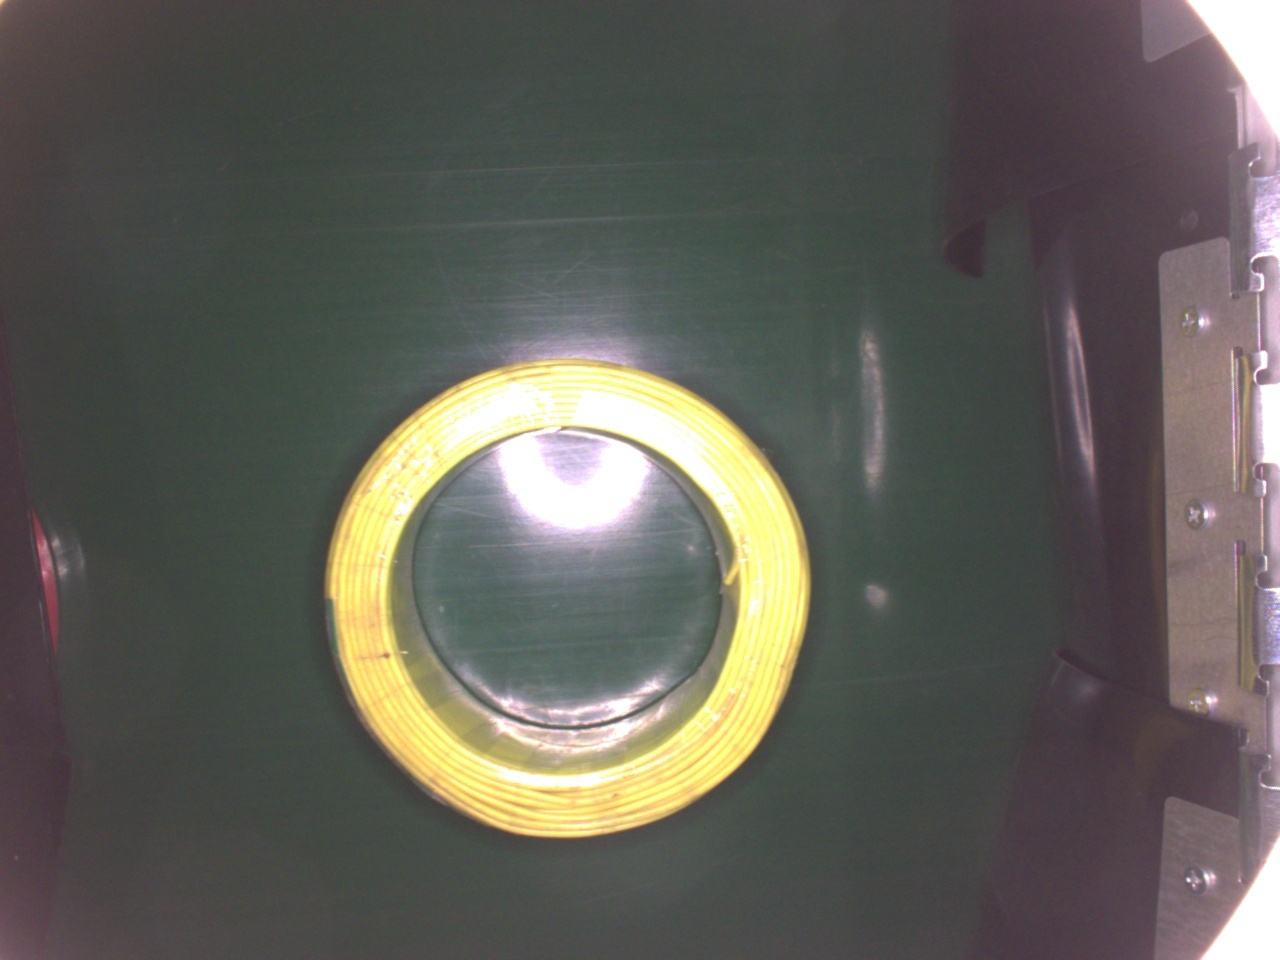yellow: (328, 348, 819, 839)
